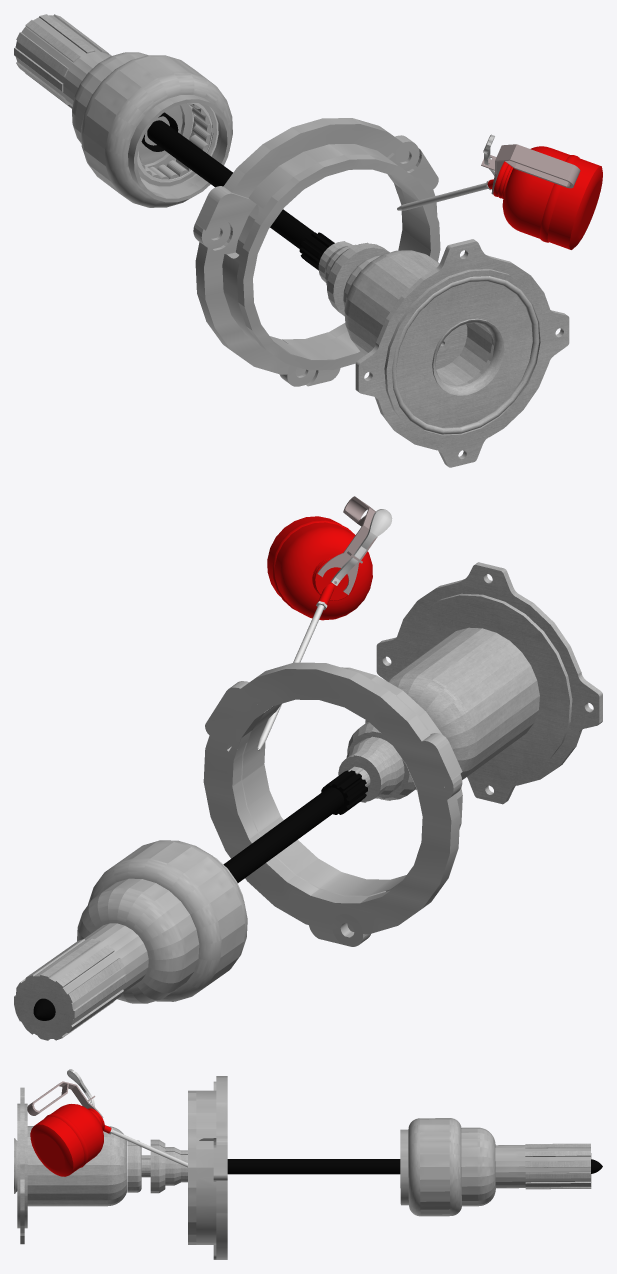
The picture shows the model from 3 angles, top to bottom: view 1: azimuth 30°, elevation 25°; view 2: azimuth 150°, elevation 25°; view 3: azimuth 270°, elevation 25°; orthographic projection. The views are drawn at different scales.
Parts seen in each view (by area): view 1: slongsong, 1.001, 1.003, Oiler, 1.002, 2.001, 3; view 2: slongsong, 1.001, 1.003, Oiler; view 3: 1.003, slongsong, 1.001, Oiler.
Part boxes in pixels (x1,y1,x2,y2): slongsong: [141, 112, 569, 467]; 1.001: [193, 118, 440, 386]; 1.003: [14, 14, 232, 207]; Oiler: [397, 134, 602, 249]; 1.002: [137, 103, 216, 186]; 2.001: [139, 103, 192, 168]; 3: [435, 324, 467, 369]; slongsong: [33, 562, 602, 1020]; 1.001: [203, 662, 462, 946]; 1.003: [14, 840, 247, 1040]; Oiler: [257, 496, 392, 750]; 1.003: [400, 1118, 591, 1216]; slongsong: [14, 1087, 602, 1244]; 1.001: [188, 1076, 227, 1259]; Oiler: [27, 1069, 187, 1176].
Bounding box in the file's own units: 356 × 360 × 921.
Materials: 16 (8 with a texture image).
